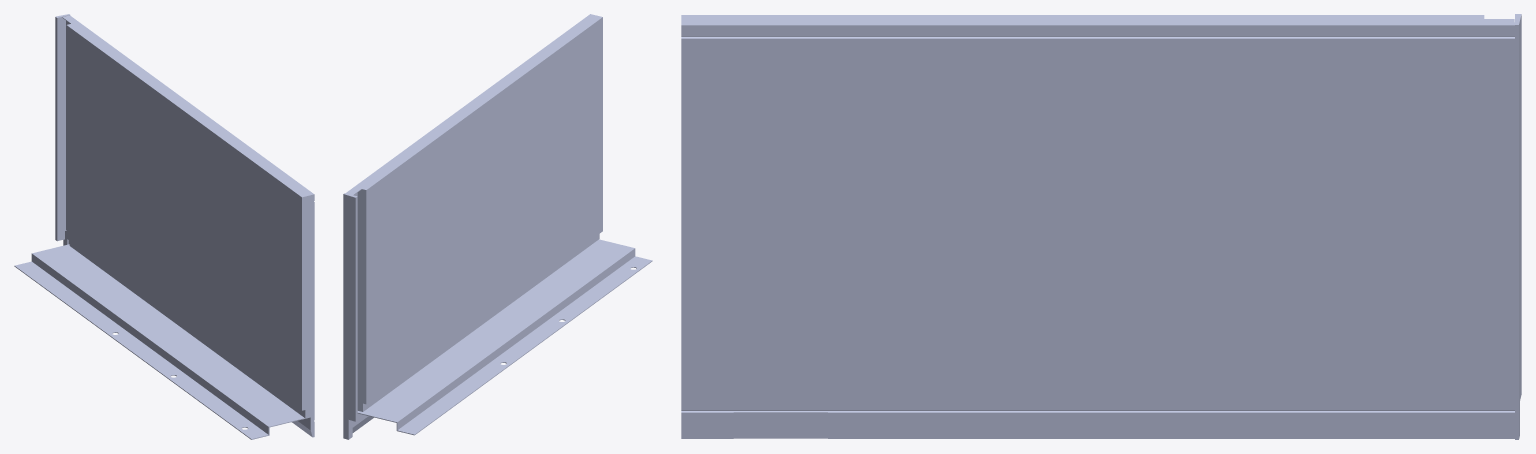
Rendered from lg-kava-F450-m.glb.
3 views of the same model, side by side, from view 1: azimuth 30°, elevation 25°; view 2: azimuth 150°, elevation 25°; view 3: azimuth 270°, elevation 25° (orthographic). The views are drawn at different scales.
Parts seen in each view (by area): view 1: 40207069; view 2: 40207069; view 3: 40207069.
Part boxes in pixels (<box>): 40207069: <box>14,14,314,439</box>; 40207069: <box>343,14,652,439</box>; 40207069: <box>681,14,1521,439</box>.
Size of the model in its own units: 0.0653 by 0.2417 by 0.4435.
